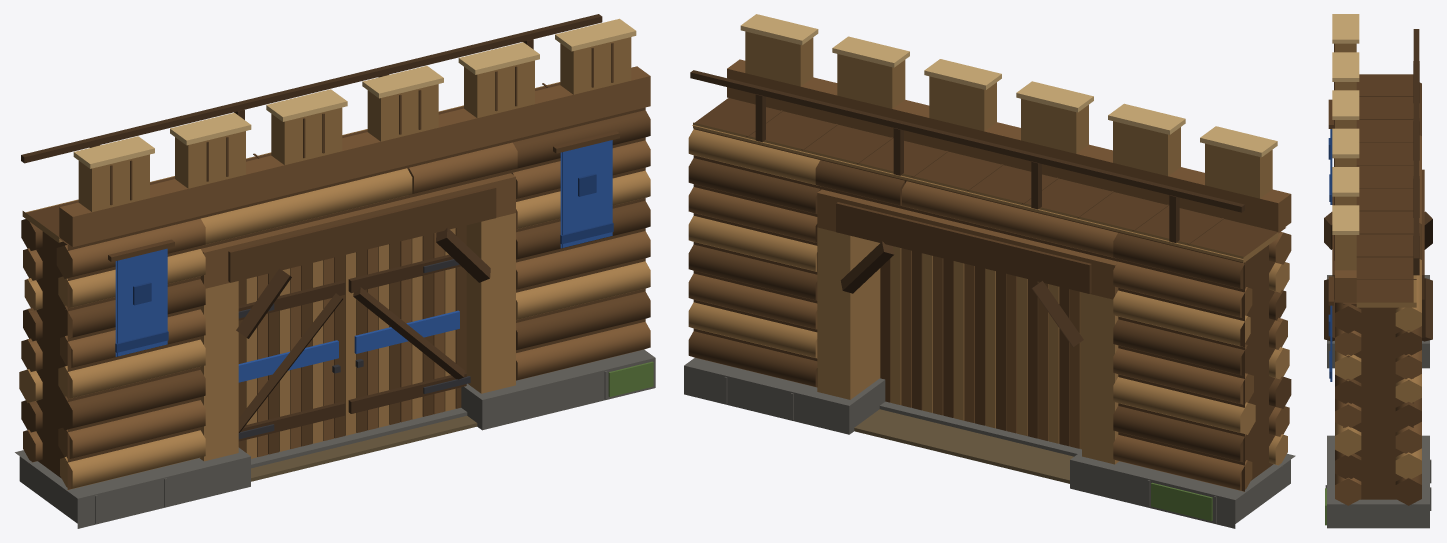
The model's file is timber-gate.glb.
3 views of the same model, side by side, from view 1: azimuth 30°, elevation 25°; view 2: azimuth 150°, elevation 25°; view 3: azimuth 270°, elevation 25° (orthographic). The views are drawn at different scales.
Visible parts, largest first — view 1: timber-gate; view 2: timber-gate; view 3: timber-gate.
Part boxes in pixels (bbox=[...]): timber-gate: bbox=[15, 14, 655, 528]; timber-gate: bbox=[684, 14, 1295, 528]; timber-gate: bbox=[1324, 14, 1432, 528].
Bounding box in the file's own units: 10 × 5.93 × 2.
Materials: 1 (1 with a texture image).
